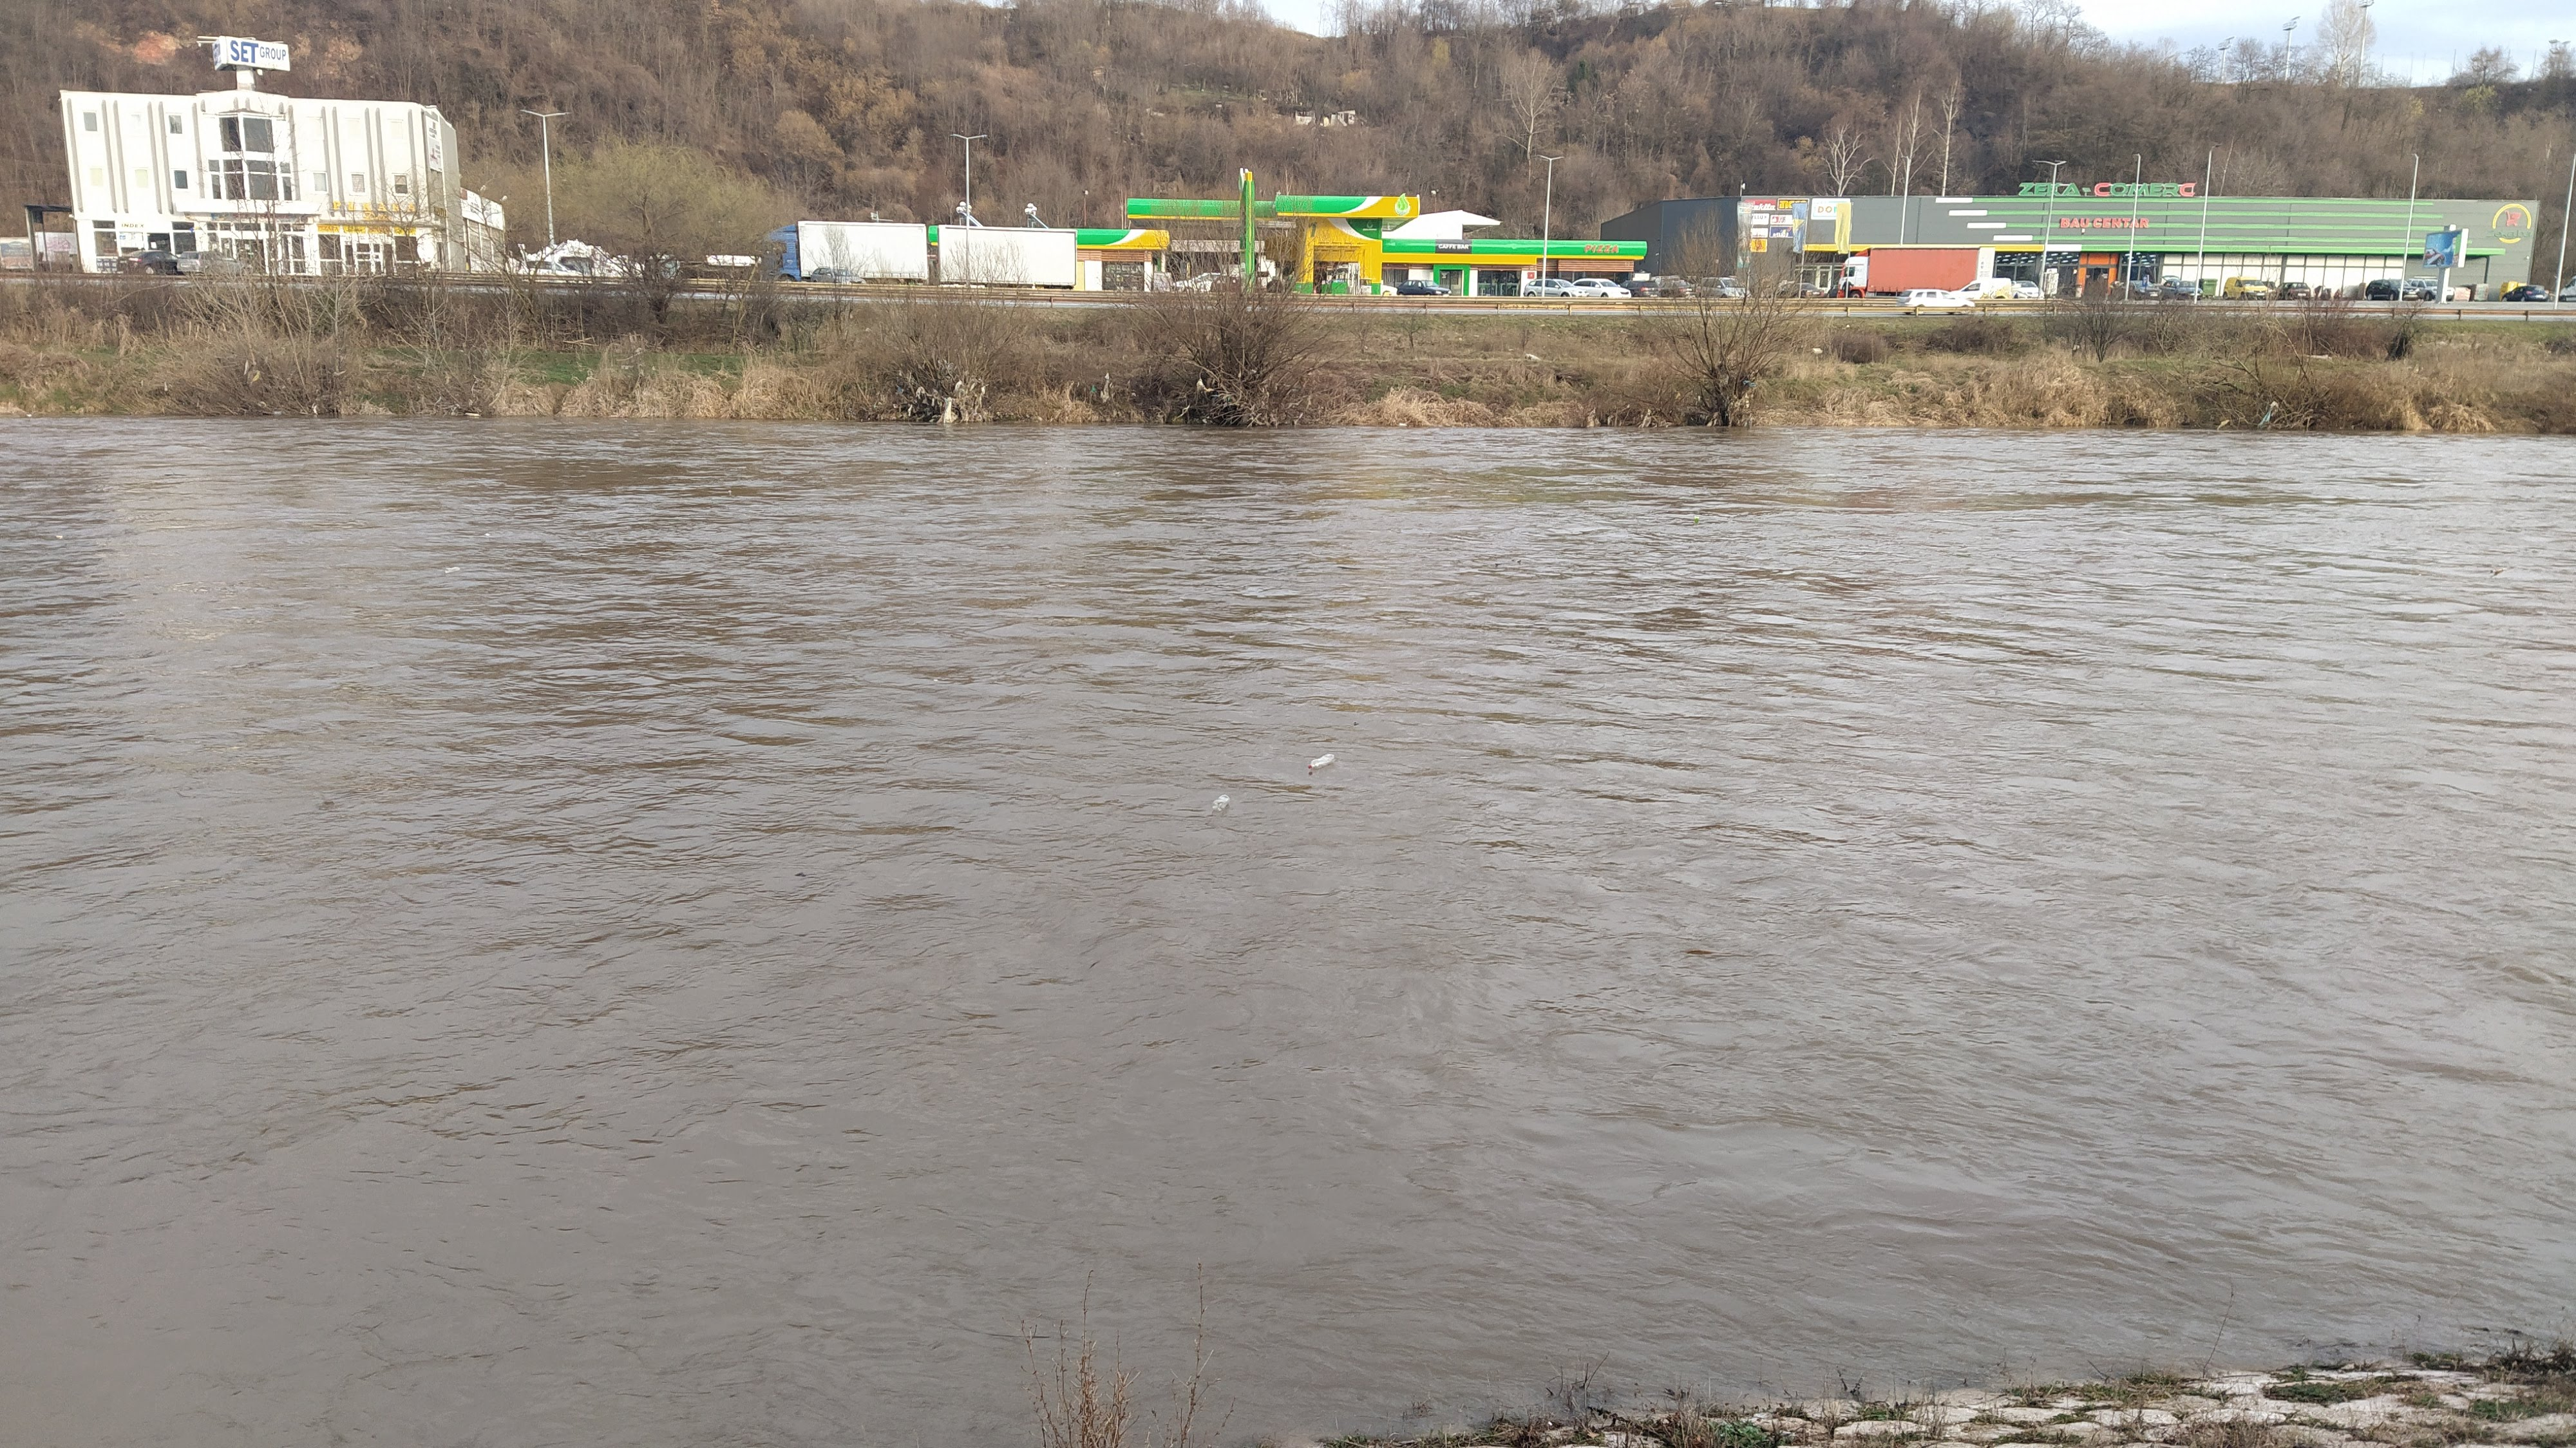Plastic Bottle: (1307, 752, 1334, 768), (1212, 795, 1230, 811), (444, 566, 460, 574), (878, 435, 885, 443), (1695, 517, 1700, 524), (274, 411, 283, 414), (1399, 423, 1407, 427)
